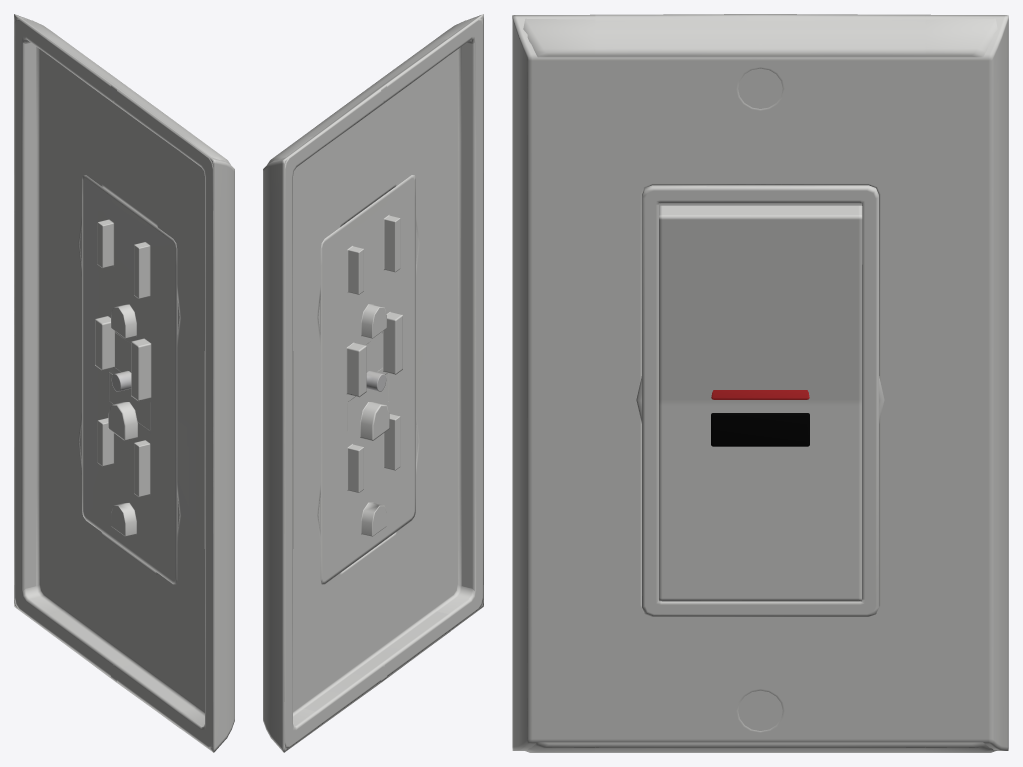
The model's file is Steckdose.glb.
3 views of the same model, side by side, from view 1: azimuth 30°, elevation 25°; view 2: azimuth 150°, elevation 25°; view 3: azimuth 270°, elevation 25° (orthographic). The views are drawn at different scales.
Parts seen in each view (by area): view 1: Wallplate_duplex_center, Recepticle_Decorator, Wallplate_duplex_right, Wallplate_sq_left, Wallplate_duplex_left, Wallplate_sq_right, Recepticle_Decorator_GFCI, Recepticle_Standard, Wallplate_sq_center; view 2: Wallplate_duplex_center, Recepticle_Decorator, Wallplate_duplex_left, Wallplate_sq_right, Wallplate_duplex_right, Wallplate_sq_left, Recepticle_Decorator_GFCI, Recepticle_Standard, Wallplate_sq_center; view 3: Wallplate_sq_center, Switch_Rocker, Wallplate_sq_left, Wallplate_sq_right, Switch_Rocker_Edging, Wallplate_duplex_center, Buttons_GFCI, Wallplate_duplex_left, Wallplate_duplex_right, Recepticle_Decorator.
Boxes of the visible parts, bbox=[...] form: Wallplate_duplex_center: bbox=[47, 39, 202, 727]; Recepticle_Decorator: bbox=[82, 175, 177, 584]; Wallplate_duplex_right: bbox=[14, 18, 69, 629]; Wallplate_sq_left: bbox=[180, 135, 234, 752]; Wallplate_duplex_left: bbox=[180, 136, 230, 748]; Wallplate_sq_right: bbox=[14, 14, 50, 630]; Recepticle_Decorator_GFCI: bbox=[82, 284, 177, 463]; Recepticle_Standard: bbox=[95, 316, 151, 440]; Wallplate_sq_center: bbox=[47, 38, 183, 728]; Wallplate_duplex_center: bbox=[295, 39, 450, 727]; Recepticle_Decorator: bbox=[320, 175, 415, 584]; Wallplate_duplex_left: bbox=[428, 18, 483, 629]; Wallplate_sq_right: bbox=[263, 135, 317, 752]; Wallplate_duplex_right: bbox=[267, 136, 317, 748]; Wallplate_sq_left: bbox=[447, 14, 483, 630]; Recepticle_Decorator_GFCI: bbox=[320, 284, 415, 462]; Recepticle_Standard: bbox=[346, 311, 402, 440]; Wallplate_sq_center: bbox=[314, 38, 450, 728]; Wallplate_sq_center: bbox=[595, 14, 925, 742]; Switch_Rocker: bbox=[659, 205, 862, 601]; Wallplate_sq_left: bbox=[512, 14, 595, 750]; Wallplate_sq_right: bbox=[925, 14, 1008, 750]; Switch_Rocker_Edging: bbox=[642, 186, 878, 616]; Wallplate_duplex_center: bbox=[595, 19, 925, 752]; Buttons_GFCI: bbox=[711, 390, 809, 446]; Wallplate_duplex_left: bbox=[523, 18, 595, 752]; Wallplate_duplex_right: bbox=[925, 18, 997, 752]; Recepticle_Decorator: bbox=[642, 185, 878, 614].
Size of the model in its own units: 0.00936 by 0.1146 by 0.0698.
Materials: 4 (4 with a texture image).
